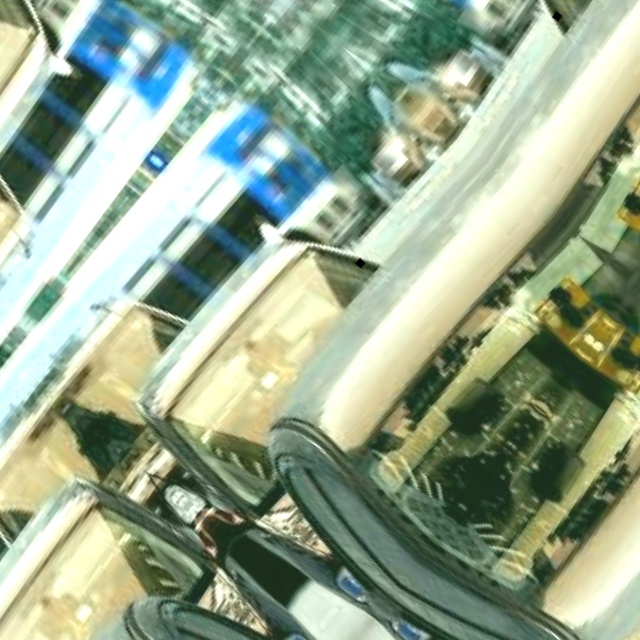ISA: (572, 313, 610, 356), (583, 322, 621, 365)
